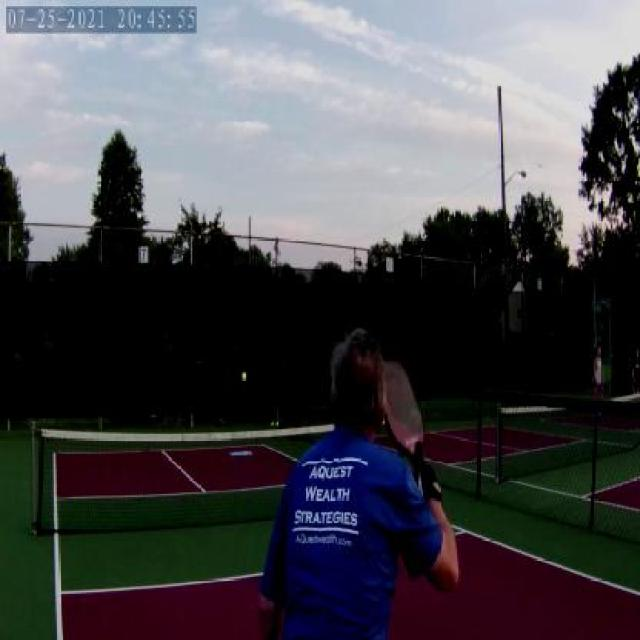ball: (237, 370, 252, 382)
